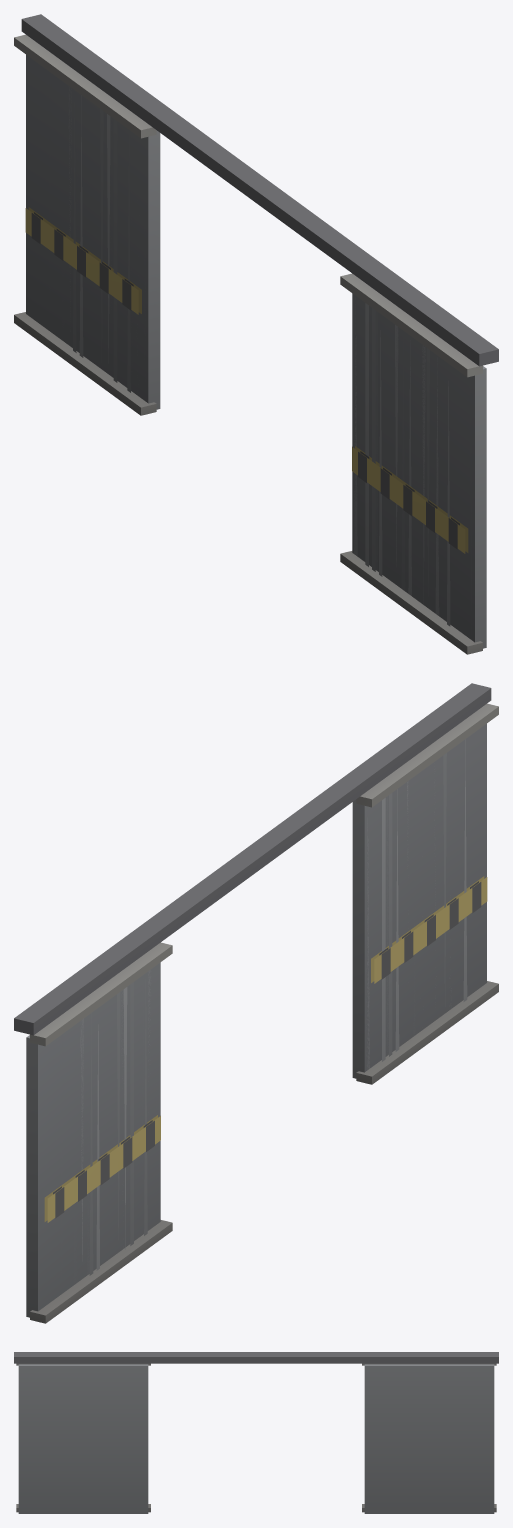
Rendered from mil_hangar_doors.lod.glb.
3 renders of one model, top to bottom at view 1: azimuth 30°, elevation 25°; view 2: azimuth 150°, elevation 25°; view 3: azimuth 270°, elevation 25°, orthographic. The views are drawn at different scales.
Parts seen in each view (by area): view 1: mil_hangar_doors; view 2: mil_hangar_doors; view 3: mil_hangar_doors.
Part boxes in pixels (x1,y1,x2,y2): mil_hangar_doors: [14, 14, 498, 654]; mil_hangar_doors: [14, 683, 498, 1323]; mil_hangar_doors: [14, 1352, 498, 1513].
Bounding box in the file's own units: 0.75 × 7.3 × 20.2.
